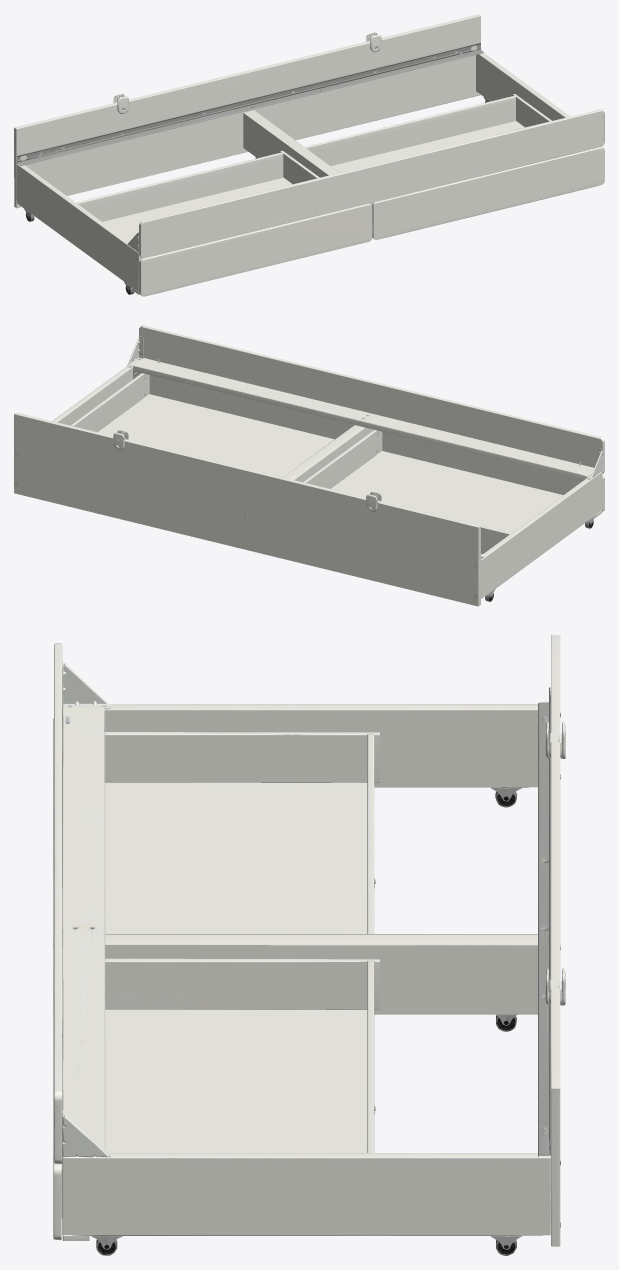
File: 45 - SLÄKT - 活動子床附儲物空間, 白色, 90x200 公分 IKEA 線上購物.glb
3 renders of one model, top to bottom at view 1: azimuth 30°, elevation 25°; view 2: azimuth 150°, elevation 25°; view 3: azimuth 270°, elevation 25°, orthographic. The views are drawn at different scales.
Parts seen in each view (by area): view 1: 1; view 2: 1; view 3: 1.
Boxes of the visible parts, left/top/right/bottom form: 1: left=14, top=14, right=604, bottom=296; 1: left=14, top=325, right=604, bottom=606; 1: left=53, top=635, right=565, bottom=1255.
Bounding box in the file's own units: 2 × 0.3759 × 0.9564.
2 materials, 1 textured.
